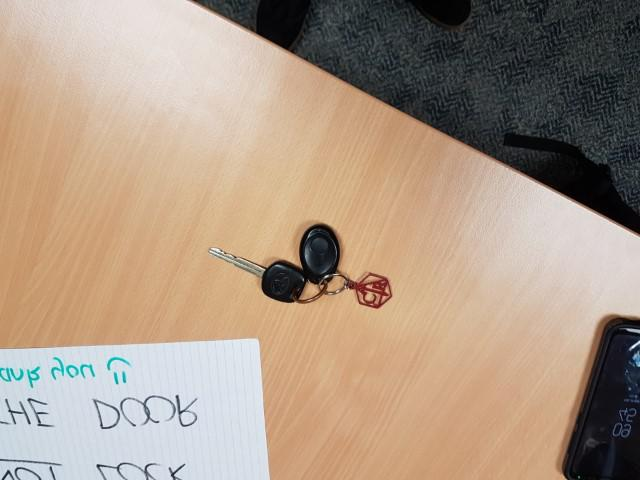key: (208, 245, 306, 303)
